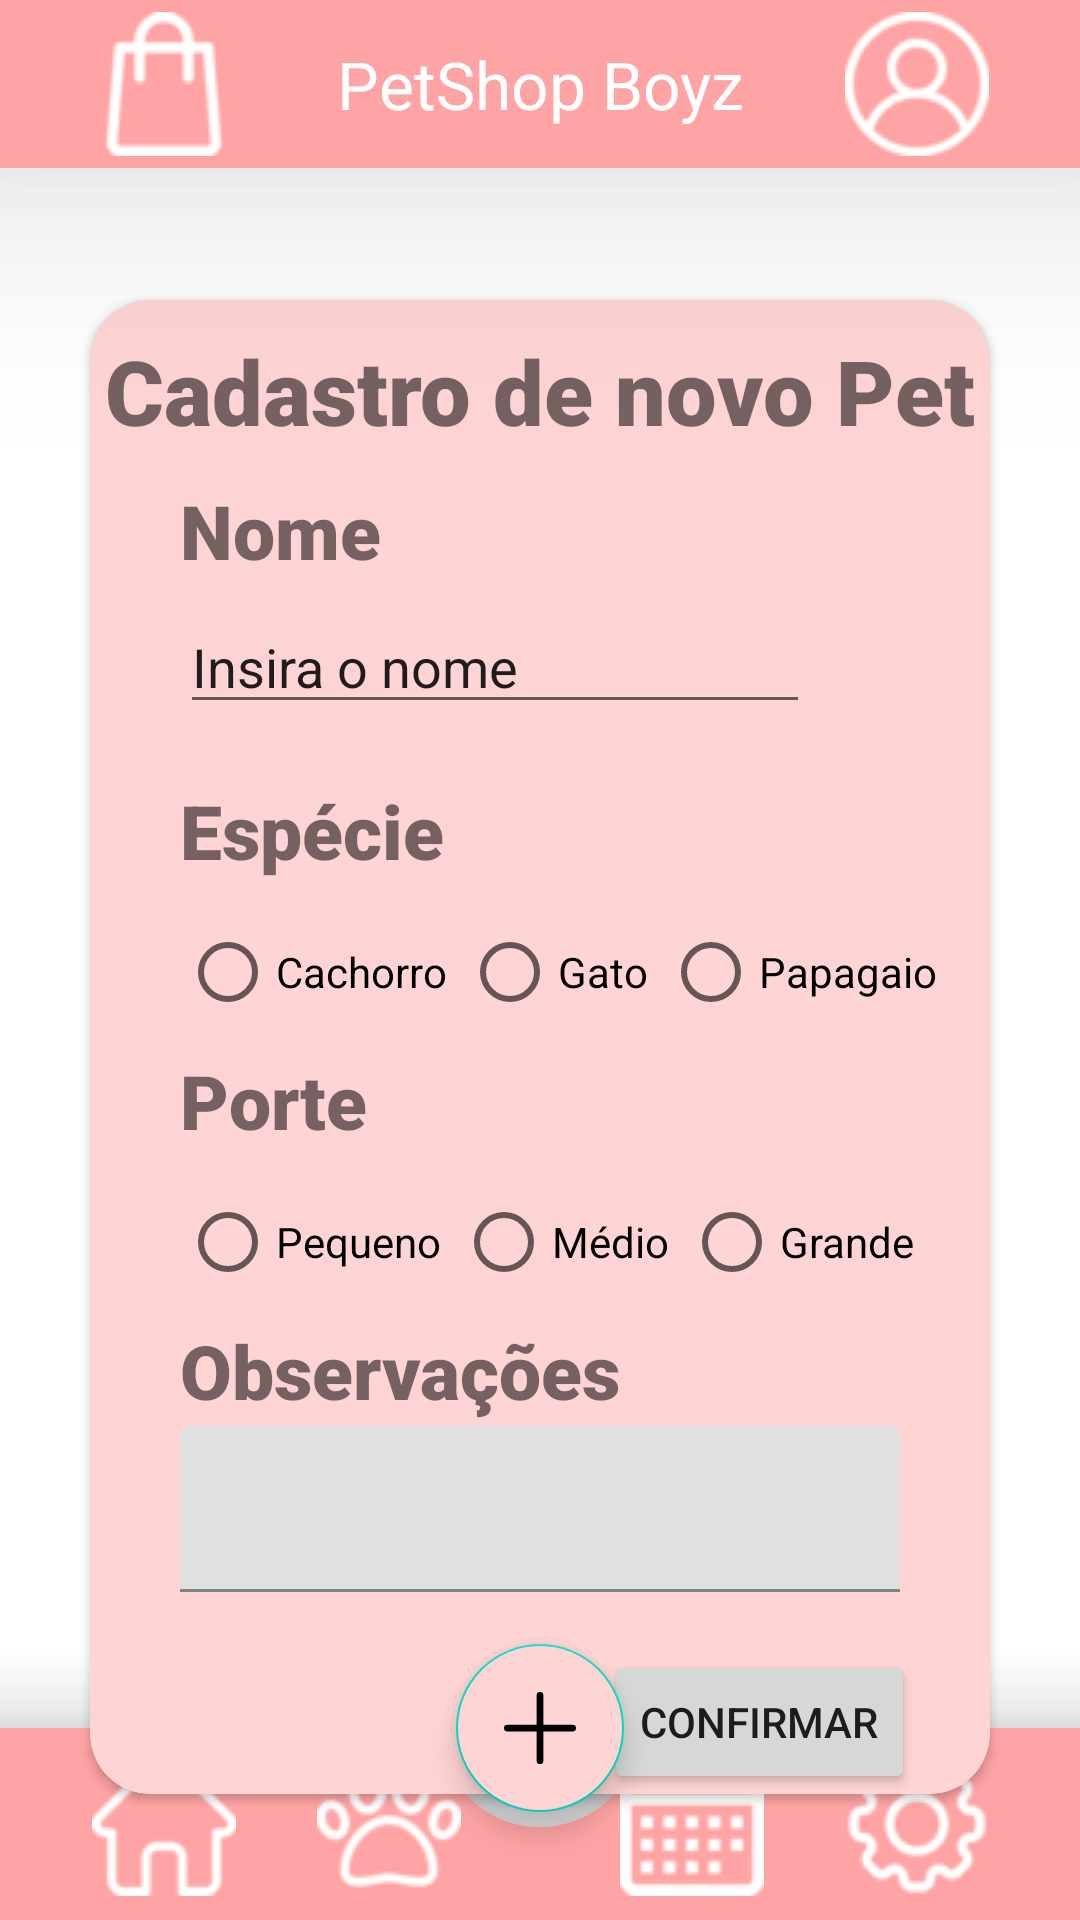

Icon click points for this 1080px x 1920px phone screenshot, format [x,y]:
add: [540,1728]
user: [917,84]
